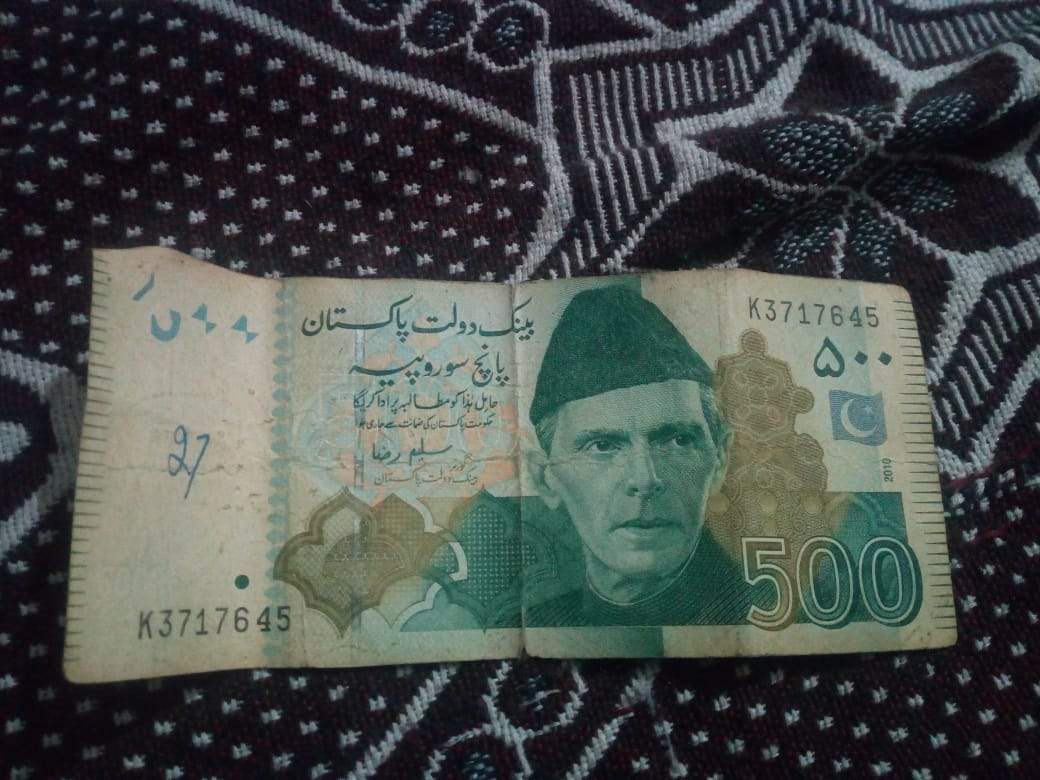500 rupee: (85, 234, 955, 705)
